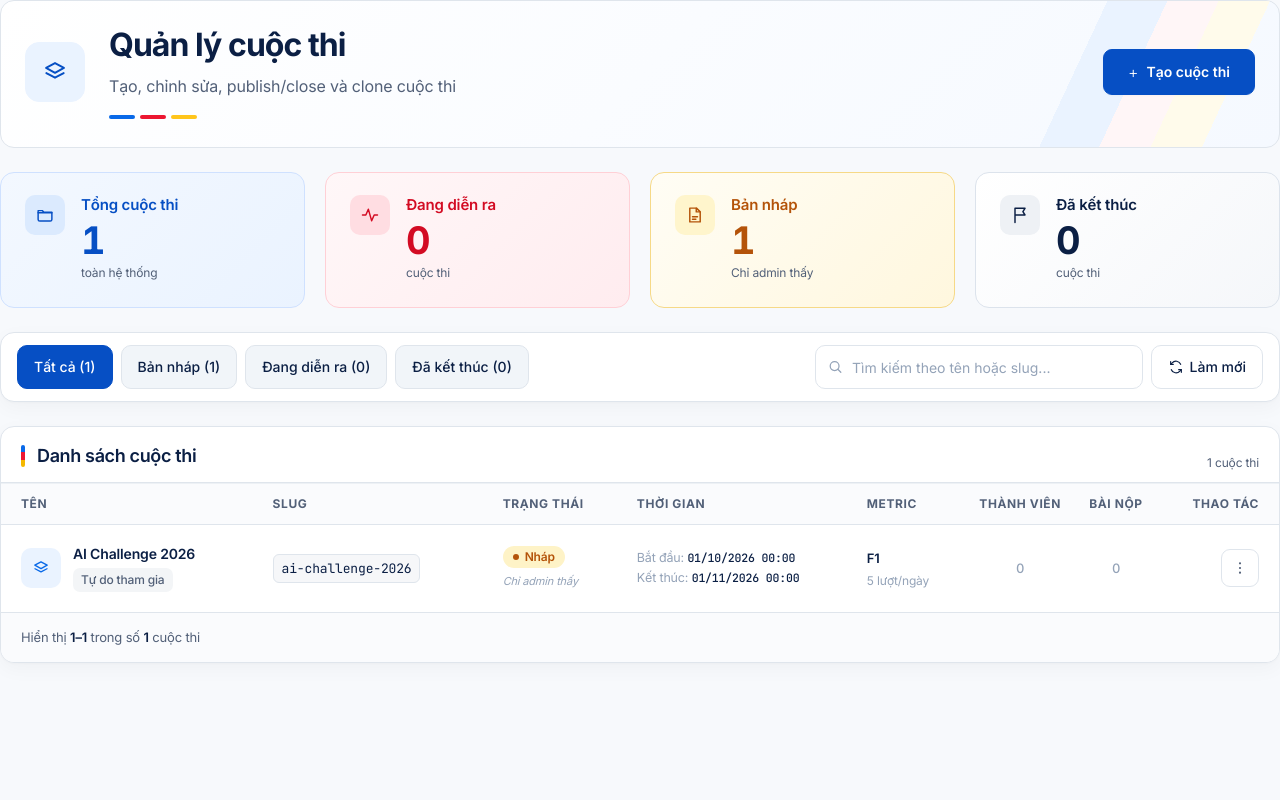
it: hiển thị table competitions với status badge và hành động theo trạng thái
Expected: the link "AI Challenge 2026" is shown, top-left (73, 545), bottom-right (195, 563)
Expected: the text "Nháp" is shown, top-left (503, 546), bottom-right (565, 568)
Click the button named "Thao tác cho AI Challenge 2026".
click(1240, 568)  # box top-left (1221, 549), bottom-right (1259, 587)
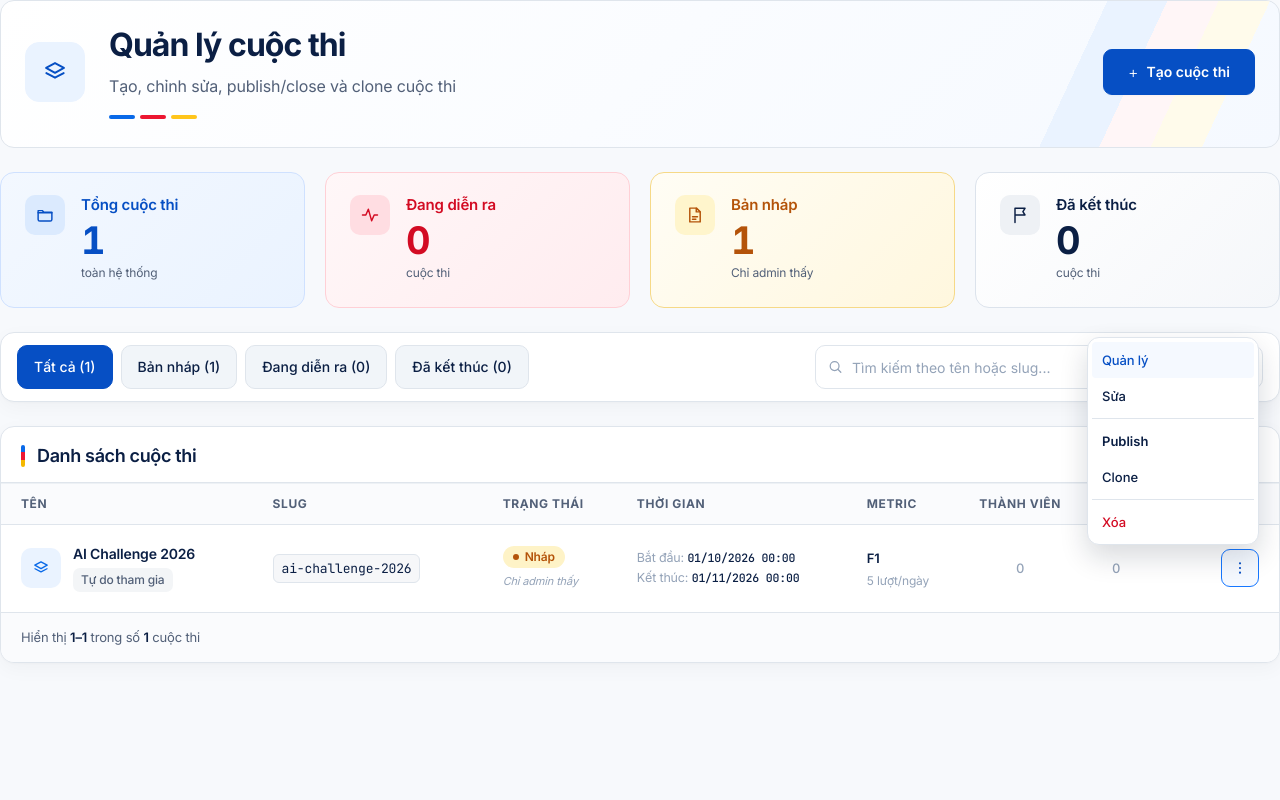
Now the menu item "Publish" is shown, box top-left (1092, 423), bottom-right (1254, 459)
